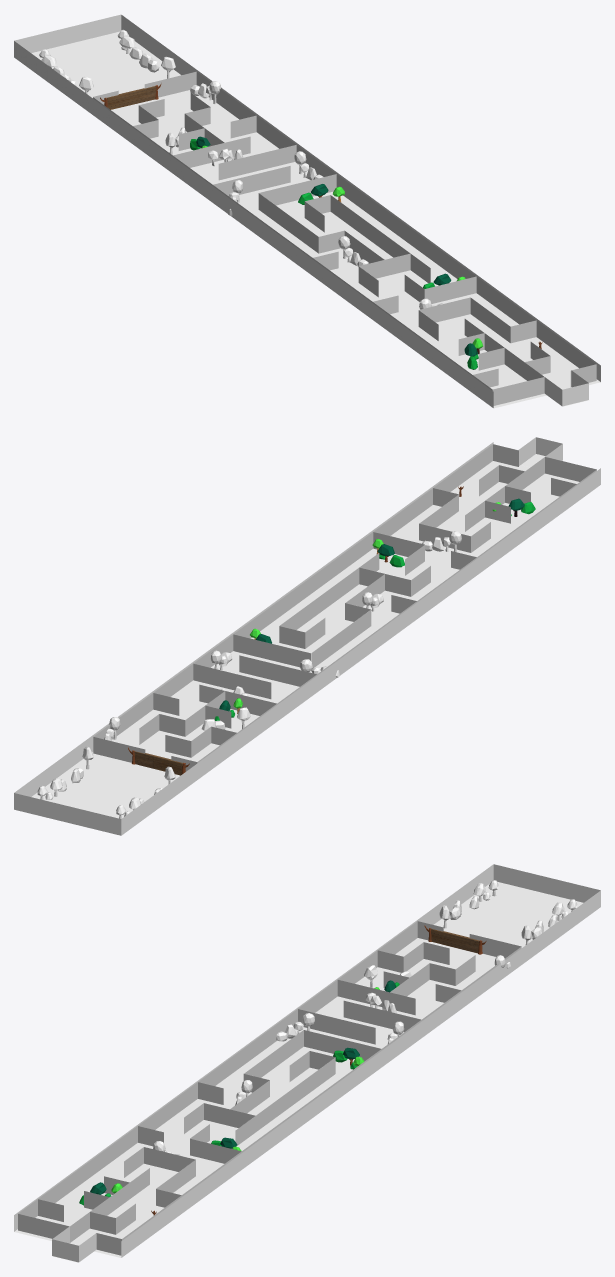
File: Level3Door.glb
3 views of the same model, one above another, from view 1: azimuth 30°, elevation 25°; view 2: azimuth 150°, elevation 25°; view 3: azimuth 330°, elevation 25° (orthographic).
Visible parts, largest first — view 1: Floor, Maze_Inside_Walls, Miniroom, Door_1; view 2: Floor, Maze_Inside_Walls, Miniroom, Door_1; view 3: Floor, Maze_Inside_Walls, Maze__Outside_Walls, Miniroom, Door_1.
Boxes of the visible parts, x1,y1,x2,y2 form: Floor: [14, 14, 600, 408]; Maze_Inside_Walls: [93, 71, 596, 405]; Miniroom: [544, 370, 588, 406]; Door_1: [100, 83, 161, 109]; Floor: [14, 442, 600, 835]; Maze_Inside_Walls: [93, 444, 596, 771]; Miniroom: [518, 437, 562, 465]; Door_1: [128, 747, 189, 775]; Floor: [14, 864, 600, 1257]; Maze_Inside_Walls: [18, 921, 521, 1255]; Maze__Outside_Walls: [18, 921, 521, 1240]; Miniroom: [52, 1226, 96, 1262]; Door_1: [424, 925, 486, 954].
Bounding box in the file's own units: 34.74 × 7 × 268.
Materials: 6 (3 with a texture image).
